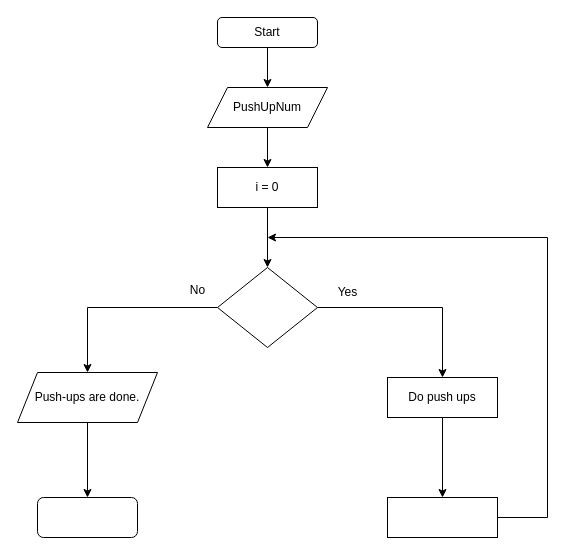
Image size: 573x555. Some labels were removed from this diagram. Each missing label, with the centre of its shape:
"Do one push up" goes at point 442,517.
"End" goes at point 87,517.
"i < pushUpNum" goes at point 267,307.
